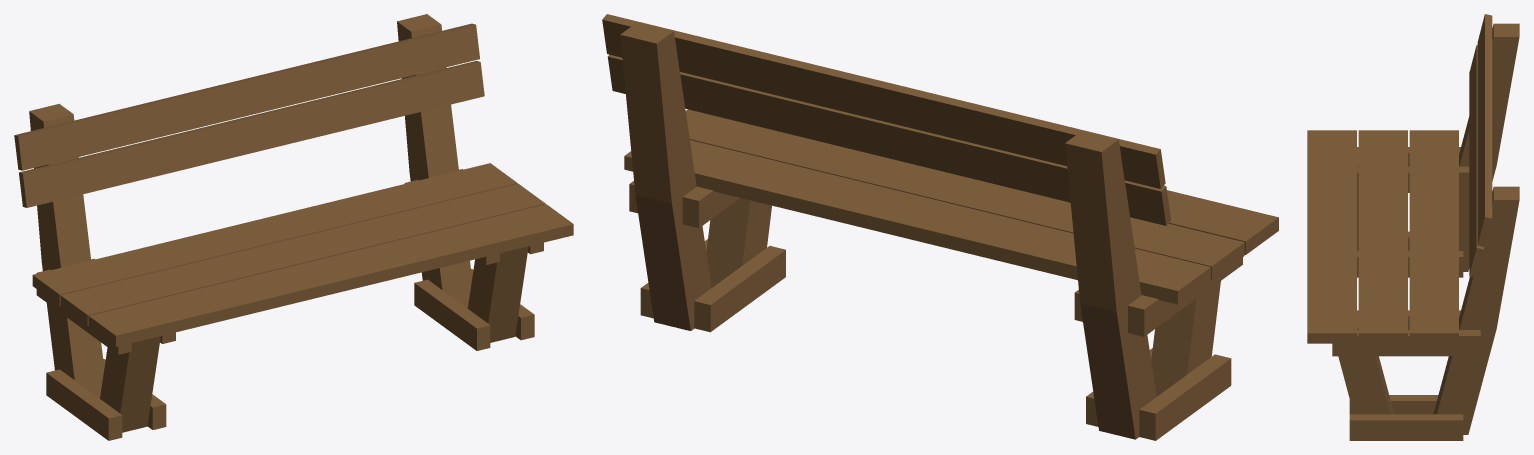
Rendered from banklowpoly.glb.
The picture shows the model from 3 angles, left to right: view 1: azimuth 30°, elevation 25°; view 2: azimuth 150°, elevation 25°; view 3: azimuth 270°, elevation 25°; orthographic projection. The views are drawn at different scales.
Parts seen in each view (by area): view 1: TablaAciento1_0, TablaAciento3.002_3, TablaAciento3.003_4, TablaAciento2_1, TablaAciento3_2, Base2.002_12, Base2_6, Base1.002_11, Base1_5, Base3.011_16, Base3.001_8, Base3.009_14 (+2 smaller); view 2: TablaAciento3_2, TablaAciento3.002_3, Base2.002_12, Base2_6, TablaAciento3.003_4, TablaAciento2_1, Base1.002_11, Base1_5, Base3.011_16, Base3.001_8, TablaAciento1_0, Base3.009_14 (+1 smaller); view 3: TablaAciento1_0, TablaAciento2_1, TablaAciento3_2, Base2_6, Base2.002_12, TablaAciento3.002_3, Base3_7, Base1_5, Base3.002_9, TablaAciento3.003_4, Base3.001_8, Base3.008_13 (+1 smaller).
Part boxes in pixels (<box>): TablaAciento1_0: <box>88,204,573,346</box>; TablaAciento3.002_3: <box>14,23,479,170</box>; TablaAciento3.003_4: <box>19,60,484,207</box>; TablaAciento2_1: <box>60,183,545,326</box>; TablaAciento3_2: <box>32,163,517,305</box>; Base2.002_12: <box>29,103,104,398</box>; Base2_6: <box>397,14,471,308</box>; Base1.002_11: <box>100,336,160,432</box>; Base1_5: <box>468,246,528,342</box>; Base3.011_16: <box>46,369,122,440</box>; Base3.001_8: <box>414,279,490,350</box>; Base3.009_14: <box>36,269,131,354</box>; TablaAciento3_2: <box>624,140,1210,304</box>; TablaAciento3.002_3: <box>602,14,1165,188</box>; Base2.002_12: <box>1065,130,1156,439</box>; Base2_6: <box>620,22,711,330</box>; TablaAciento3.003_4: <box>607,54,1170,225</box>; TablaAciento2_1: <box>685,109,1244,279</box>; Base1.002_11: <box>1151,281,1220,396</box>; Base1_5: <box>706,198,771,287</box>; Base3.011_16: <box>1139,354,1231,440</box>; Base3.001_8: <box>694,246,785,332</box>; TablaAciento1_0: <box>1167,190,1278,254</box>; Base3.009_14: <box>1128,257,1242,336</box>; TablaAciento1_0: <box>1307,130,1356,343</box>; TablaAciento2_1: <box>1358,130,1407,343</box>; TablaAciento3_2: <box>1409,130,1458,343</box>; Base2_6: <box>1433,186,1519,434</box>; Base2.002_12: <box>1459,23,1519,271</box>; TablaAciento3.002_3: <box>1477,14,1492,246</box>; Base3_7: <box>1349,414,1463,440</box>; Base1_5: <box>1338,315,1394,414</box>; Base3.002_9: <box>1332,330,1480,356</box>; TablaAciento3.003_4: <box>1469,45,1483,277</box>; Base3.001_8: <box>1349,395,1438,414</box>; Base3.008_13: <box>1357,166,1469,192</box>.
Size of the model in its own units: 1.69 by 0.9133 by 0.7473.
